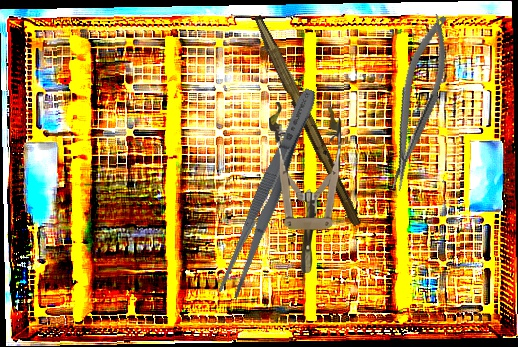Dressing Forceps: (214, 84, 324, 301)
Needle Holder: (372, 11, 462, 194)
Scalpel Handle: (246, 14, 367, 228)
Speculum: (269, 102, 341, 273)
